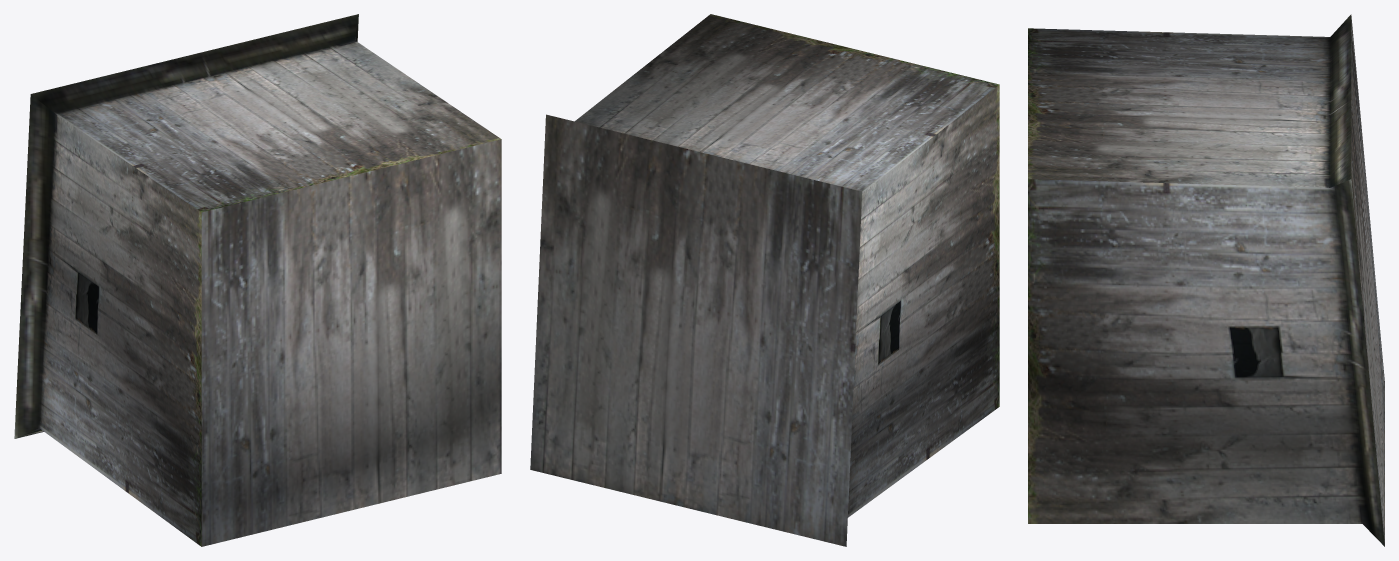
3 views of the same model, side by side, from view 1: azimuth 30°, elevation 25°; view 2: azimuth 150°, elevation 25°; view 3: azimuth 270°, elevation 25° (orthographic). The views are drawn at different scales.
Parts seen in each view (by area): view 1: 3DSMesh_0_0; view 2: 3DSMesh_0_0; view 3: 3DSMesh_0_0.
Boxes of the visible parts, box(x1,y1,x2,y2) form: 3DSMesh_0_0: box(14, 14, 501, 546); 3DSMesh_0_0: box(530, 14, 999, 546); 3DSMesh_0_0: box(1028, 14, 1384, 546).
Size of the model in its own units: 47.41 by 49.25 by 43.3.
1 material, 1 textured.
